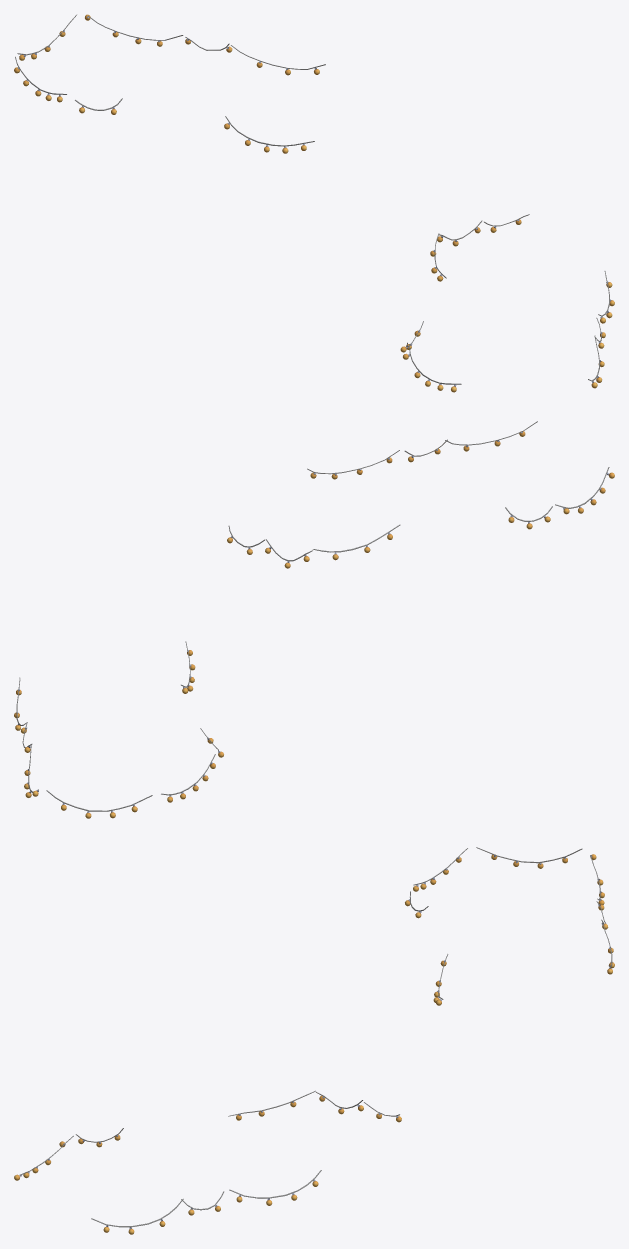
Rendered from pref_sm_beach_WSJ_deng04_a_lv3.fbx.
3 renders of one model, top to bottom at view 1: azimuth 30°, elevation 25°; view 2: azimuth 150°, elevation 25°; view 3: azimuth 330°, elevation 25°, orthographic.
Visible parts, largest first — view 1: pref_sm_beach_WSJ_deng04_a_lv3; view 2: pref_sm_beach_WSJ_deng04_a_lv3; view 3: pref_sm_beach_WSJ_deng04_a_lv3.
Part boxes in pixels (bbox=[...]): pref_sm_beach_WSJ_deng04_a_lv3: bbox=[14, 14, 614, 392]; pref_sm_beach_WSJ_deng04_a_lv3: bbox=[14, 421, 614, 818]; pref_sm_beach_WSJ_deng04_a_lv3: bbox=[14, 847, 614, 1234].
Bounding box in the file's own units: 9.33 × 0.9933 × 34.09.
